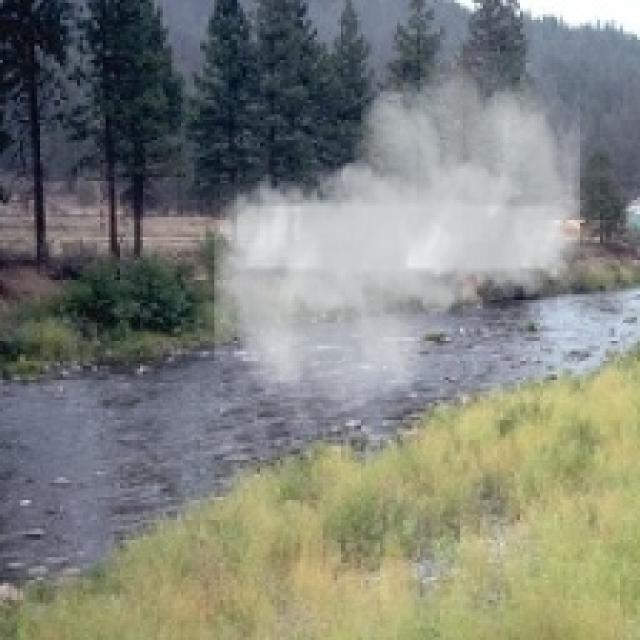Smoke: (215, 51, 580, 423)
